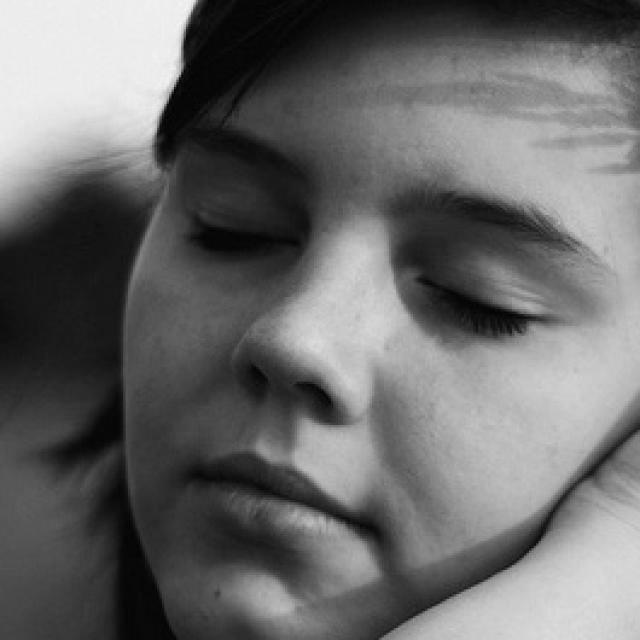real: (180, 106, 632, 604), (172, 165, 577, 355)
